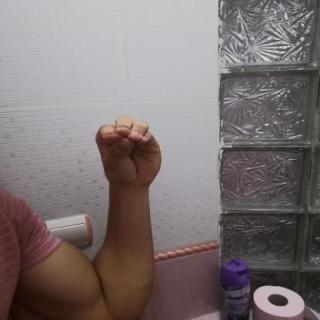HA: (82, 105, 176, 201)
